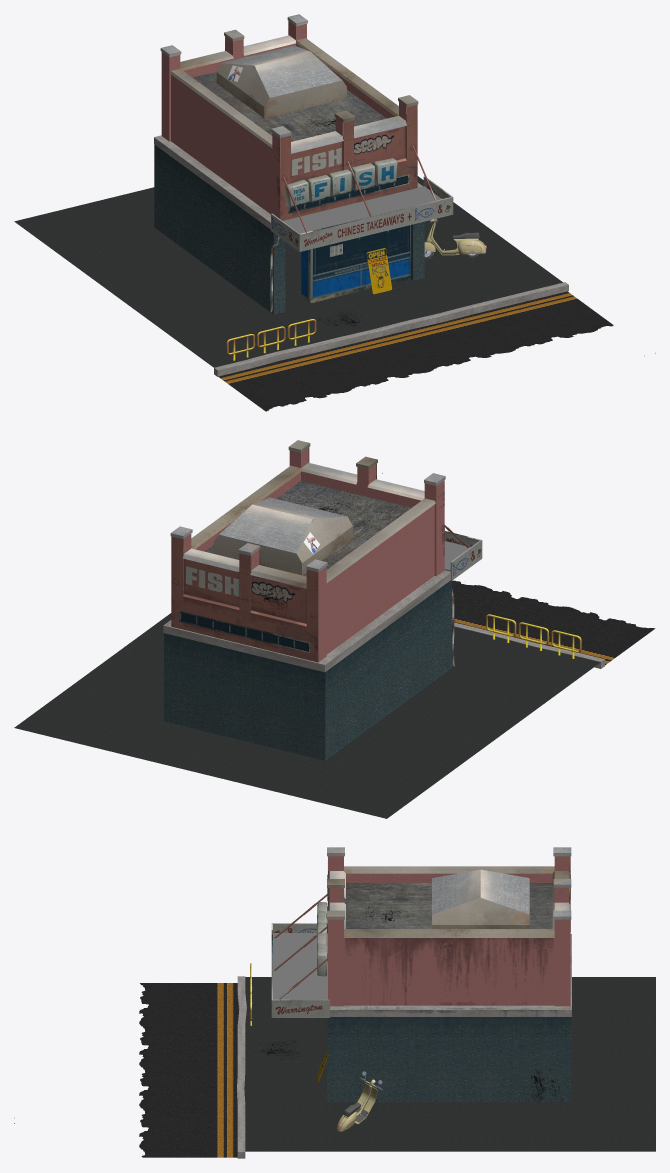
Rendered from fishShop.glb.
3 views of the same model, one above another, from view 1: azimuth 30°, elevation 25°; view 2: azimuth 150°, elevation 25°; view 3: azimuth 270°, elevation 25° (orthographic). The views are drawn at different scales.
Visible parts, largest first — view 1: model; view 2: model; view 3: model.
Boxes of the visible parts, x1,y1,x2,y2 form: model: [14, 14, 655, 411]; model: [14, 440, 655, 818]; model: [14, 847, 655, 1158].
Bounding box in the file's own units: 7.12 × 3.84 × 11.
27 materials, 21 textured.
